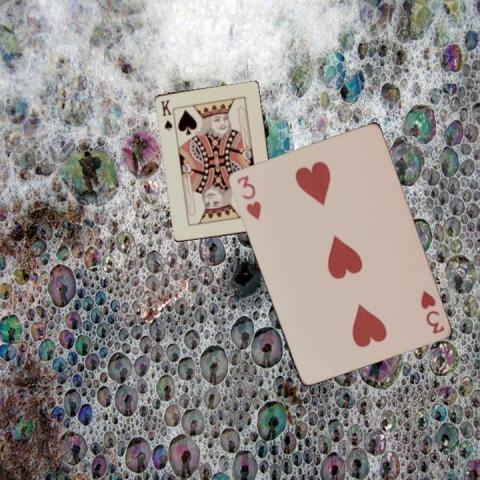3h: (233, 172, 263, 221), (417, 287, 445, 336)
Ks: (159, 97, 174, 132)
